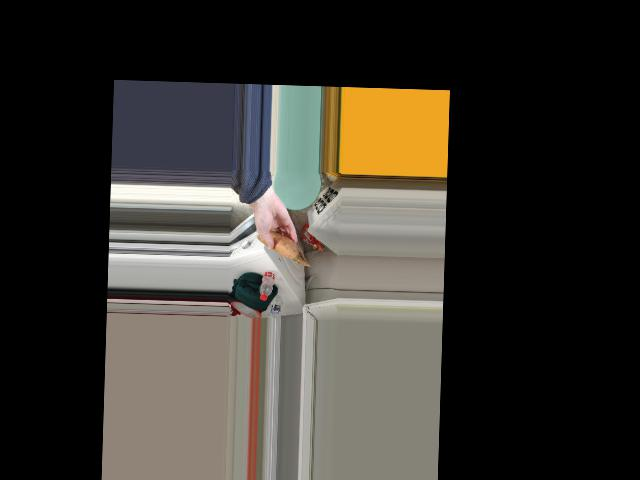sweet_potato: (262, 228, 295, 257)
